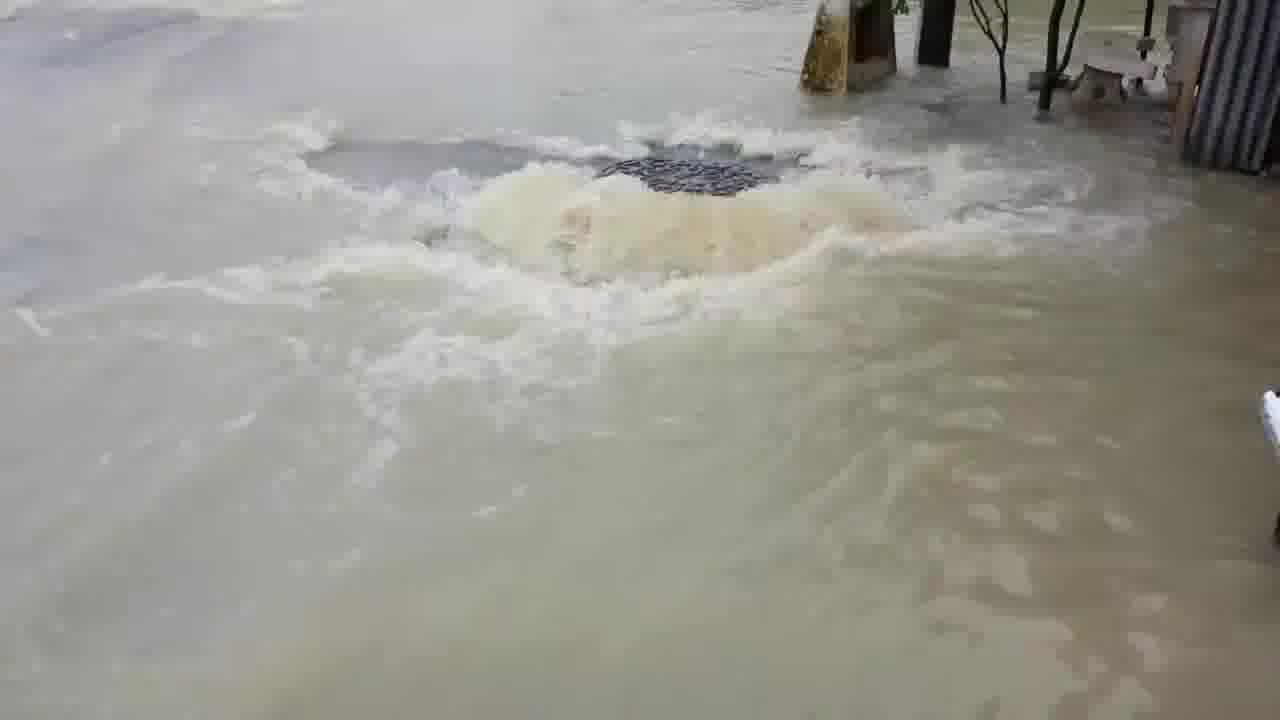drainage overflow-repair-: (515, 110, 846, 293)
